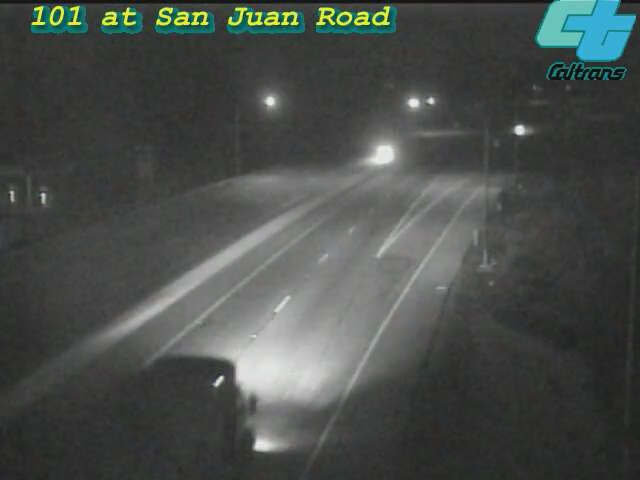vehicle: (326, 99, 436, 209), (124, 360, 234, 470), (496, 104, 546, 154)
